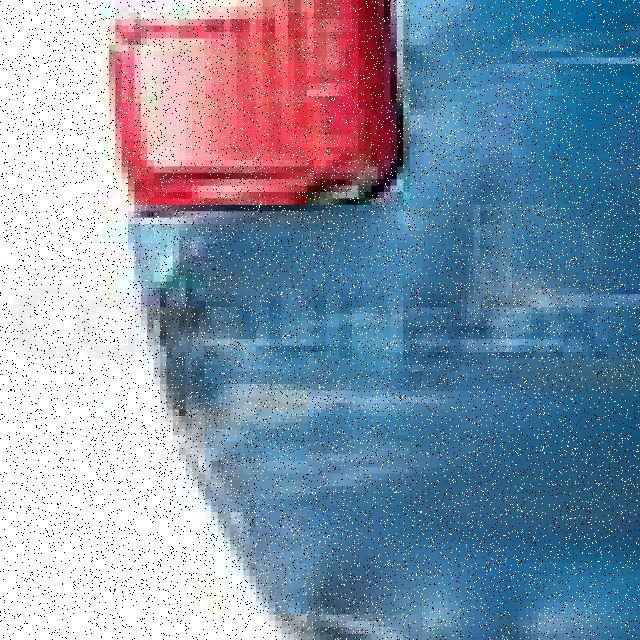rear-bumper-dent: (13, 0, 634, 634)
